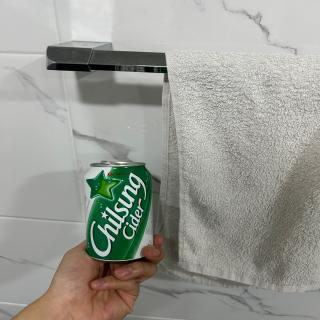chilsung: (79, 158, 158, 264)
